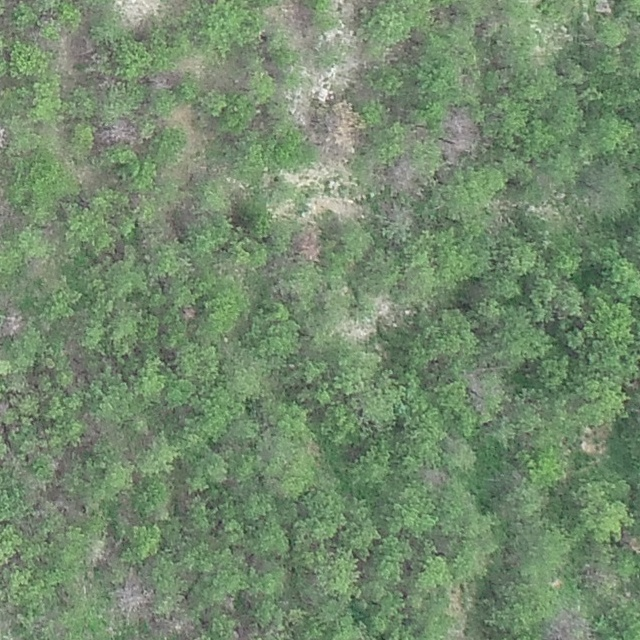unhealthy: (439, 105, 481, 159), (111, 570, 155, 621), (542, 608, 597, 639), (385, 155, 423, 196), (60, 28, 96, 66), (295, 225, 324, 262), (98, 119, 138, 145), (579, 562, 616, 590), (86, 537, 117, 567), (159, 616, 197, 640), (0, 310, 26, 338), (146, 70, 182, 90), (417, 466, 447, 490), (0, 194, 18, 230), (620, 530, 639, 557), (179, 303, 197, 321), (0, 123, 9, 148), (0, 397, 9, 417)
